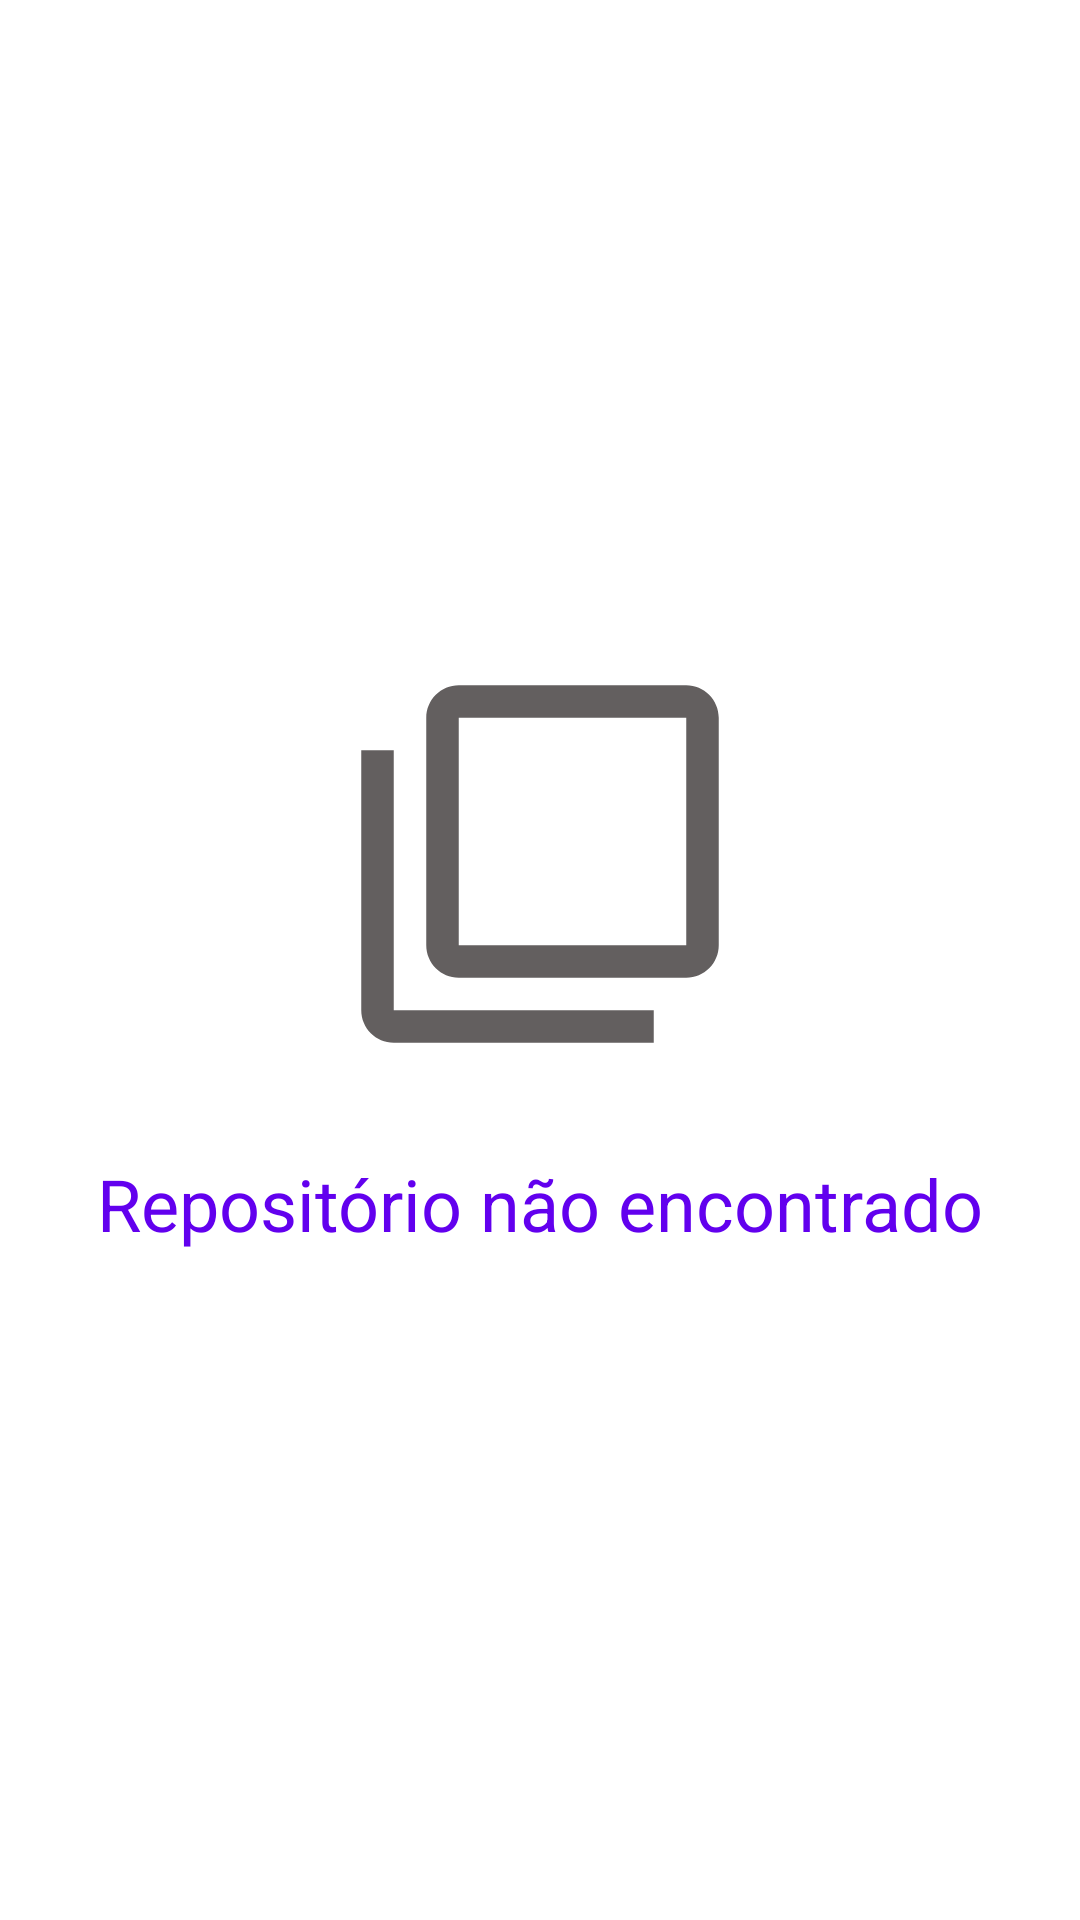

Where to tap for icons on this 1080x1920 app screen, as (x,y):
filter none: (540,864)
